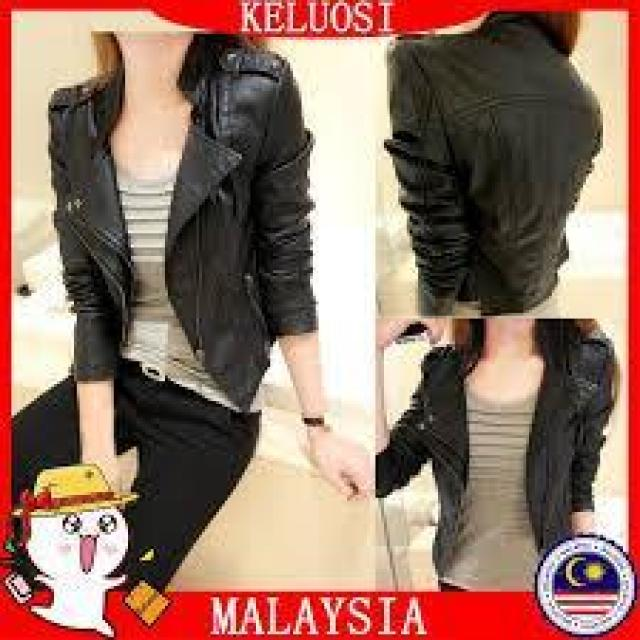jacket: (47, 50, 314, 405), (388, 31, 608, 313), (378, 330, 620, 575)
